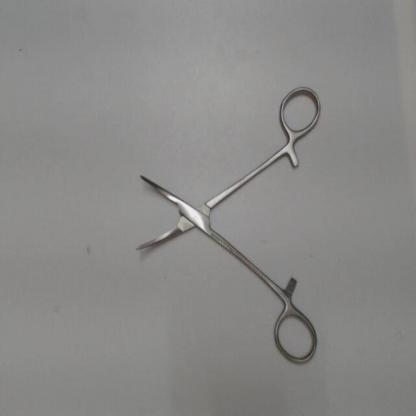Crile Artery Forceps: (129, 81, 324, 371)
